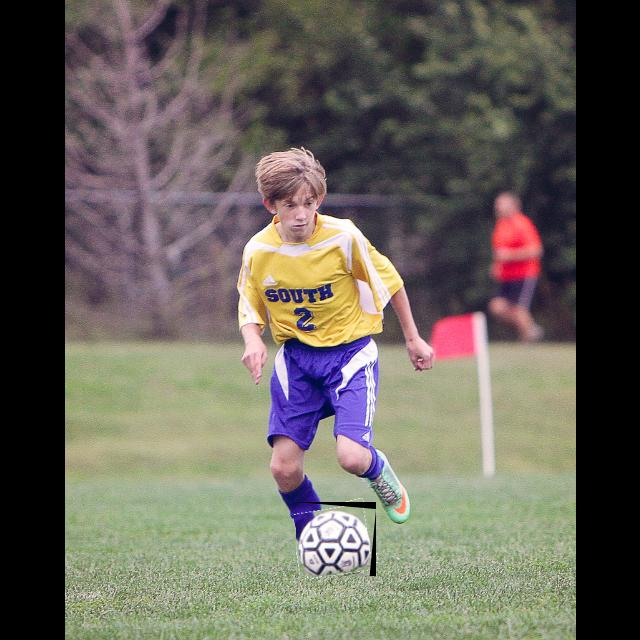Football: (296, 502, 376, 576)
